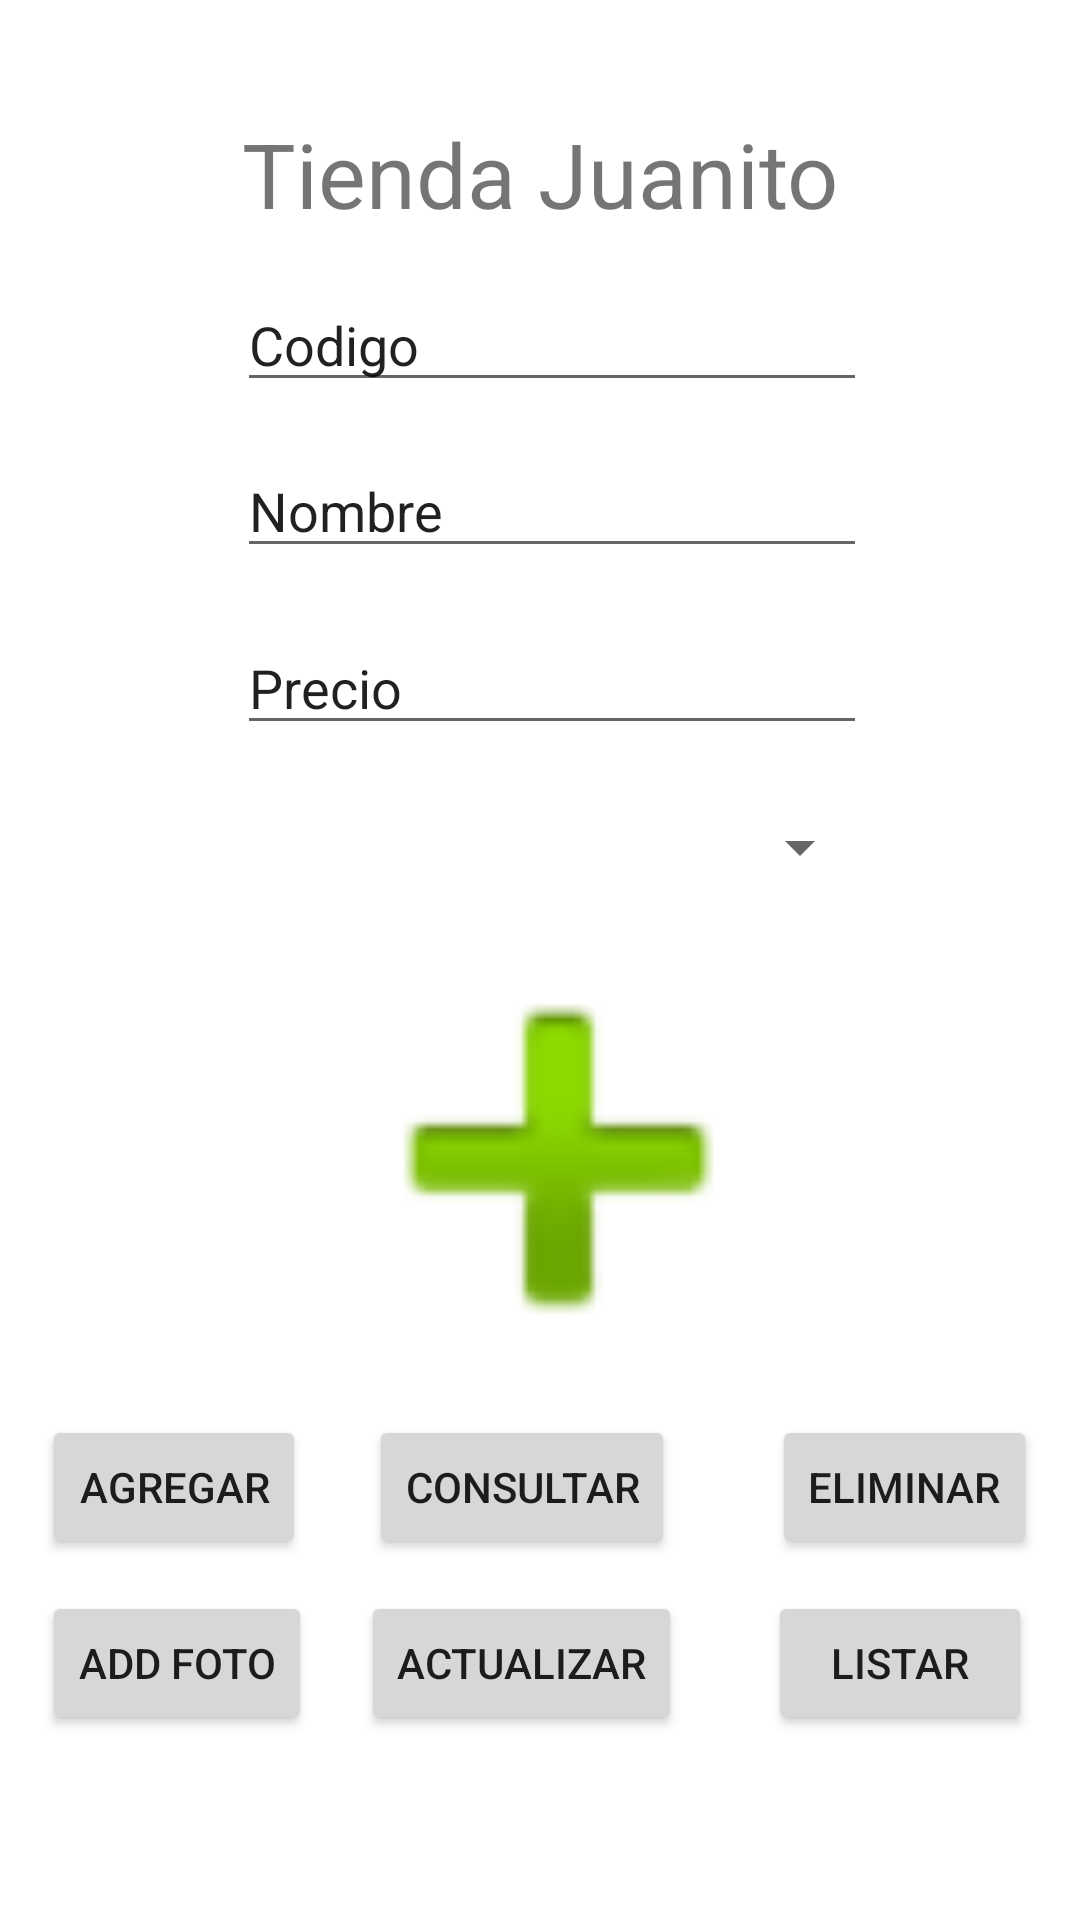

Screen size 1080*1920. Icon name, then its box in pixels as (x1=x1, y1=y1, x2=x2, y2=y2):
add: (x1=404, y1=1005, x2=713, y2=1312)
